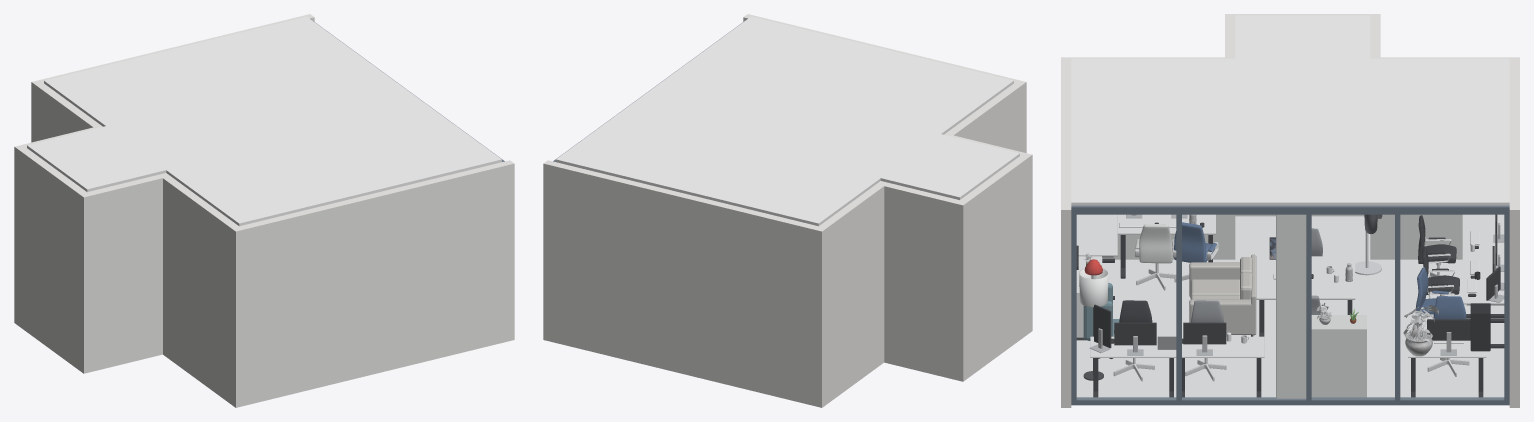
File: lab_room_hybrid.fbx
3 views of the same model, side by side, from view 1: azimuth 30°, elevation 25°; view 2: azimuth 150°, elevation 25°; view 3: azimuth 270°, elevation 25° (orthographic). The views are drawn at different scales.
Visible parts, largest first — view 1: Wall_South, Ceiling, Wall_Entrance_S, Wall_West_B, Wall_Entrance_End, Ceiling_Entrance, Wall_West_A, Wall_Entrance_N, Wall_North; view 2: Wall_North, Ceiling, Wall_Entrance_N, Wall_Entrance_End, Wall_West_A, Ceiling_Entrance, Wall_West_B, Wall_Entrance_S, Wall_South; view 3: Window_Glass, Ceiling, Floor, Ceiling_Entrance, Pillar_East, Window_Head, ShelfUnit_Back, Wall_North, Wall_South, Window_Sill, Floor_Entrance, Wall_West_A (+41 smaller).
Part boxes in pixels (bbox=[...]): Wall_South: bbox=[231, 160, 514, 407]; Ceiling: bbox=[44, 16, 501, 226]; Wall_Entrance_S: bbox=[79, 175, 162, 373]; Wall_West_B: bbox=[158, 173, 238, 404]; Wall_Entrance_End: bbox=[19, 148, 86, 369]; Ceiling_Entrance: bbox=[27, 126, 166, 191]; Wall_West_A: bbox=[36, 83, 102, 141]; Wall_Entrance_N: bbox=[14, 127, 94, 325]; Wall_North: bbox=[31, 14, 314, 142]; Wall_North: bbox=[543, 160, 826, 407]; Ceiling: bbox=[556, 16, 1013, 226]; Wall_Entrance_N: bbox=[884, 183, 967, 381]; Wall_Entrance_End: bbox=[960, 156, 1027, 377]; Wall_West_A: bbox=[819, 181, 888, 404]; Ceiling_Entrance: bbox=[880, 134, 1019, 199]; Wall_West_B: bbox=[944, 83, 1021, 151]; Wall_Entrance_S: bbox=[952, 135, 1032, 333]; Wall_South: bbox=[743, 14, 1026, 152]; Window_Glass: bbox=[1077, 215, 1503, 398]; Ceiling: bbox=[1071, 58, 1509, 205]; Floor: bbox=[1076, 259, 1504, 397]; Ceiling_Entrance: bbox=[1235, 15, 1370, 58]; Pillar_East: bbox=[1276, 214, 1306, 398]; Window_Head: bbox=[1071, 205, 1509, 214]; ShelfUnit_Back: bbox=[1311, 329, 1366, 397]; Wall_North: bbox=[1509, 57, 1519, 407]; Wall_South: bbox=[1061, 57, 1071, 407]; Window_Sill: bbox=[1076, 397, 1508, 405]; Floor_Entrance: bbox=[1235, 216, 1370, 259]; Wall_West_A: bbox=[1370, 57, 1509, 259].
Bounding box in the file's own units: 6.8 × 3.27 × 6.72.
